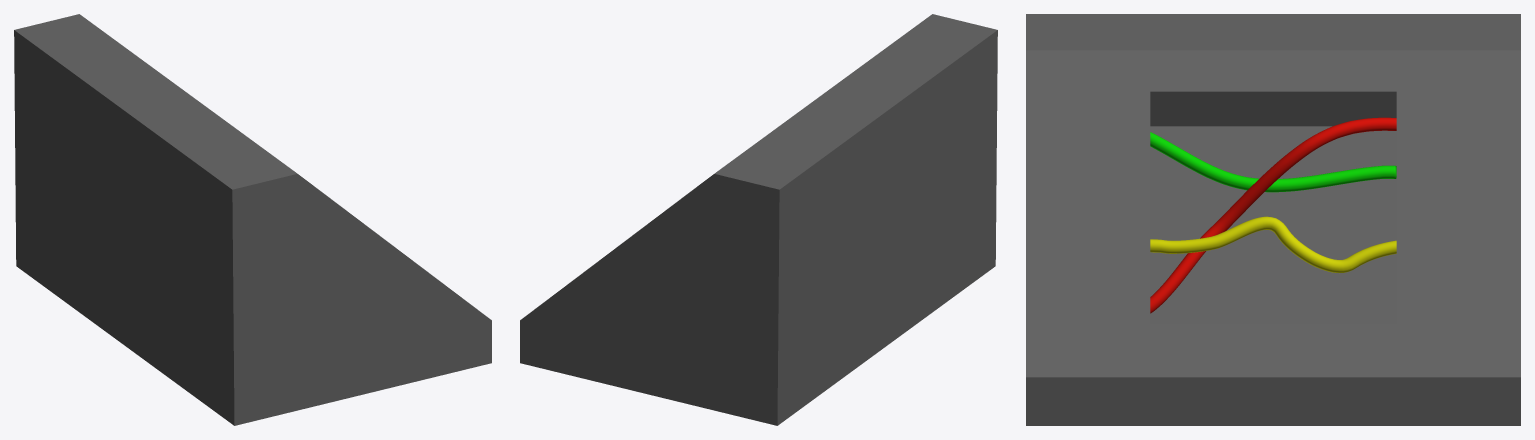
3 renders of one model, left to right at view 1: azimuth 30°, elevation 25°; view 2: azimuth 150°, elevation 25°; view 3: azimuth 270°, elevation 25°, orthographic. The views are drawn at different scales.
Parts seen in each view (by area): view 1: Cube; view 2: Cube; view 3: Cube, Cylinder.002, Cylinder, Cylinder.001.
Part boxes in pixels (x1=…): Cube: x1=14, y1=14, x2=491, y2=425; Cube: x1=520, y1=14, x2=997, y2=425; Cube: x1=1026, y1=14, x2=1520, y2=425; Cylinder.002: x1=1150, y1=117, x2=1396, y2=313; Cylinder: x1=1150, y1=216, x2=1396, y2=273; Cylinder.001: x1=1150, y1=132, x2=1396, y2=192.
Bounding box in the file's own units: 209 × 182 × 304.
